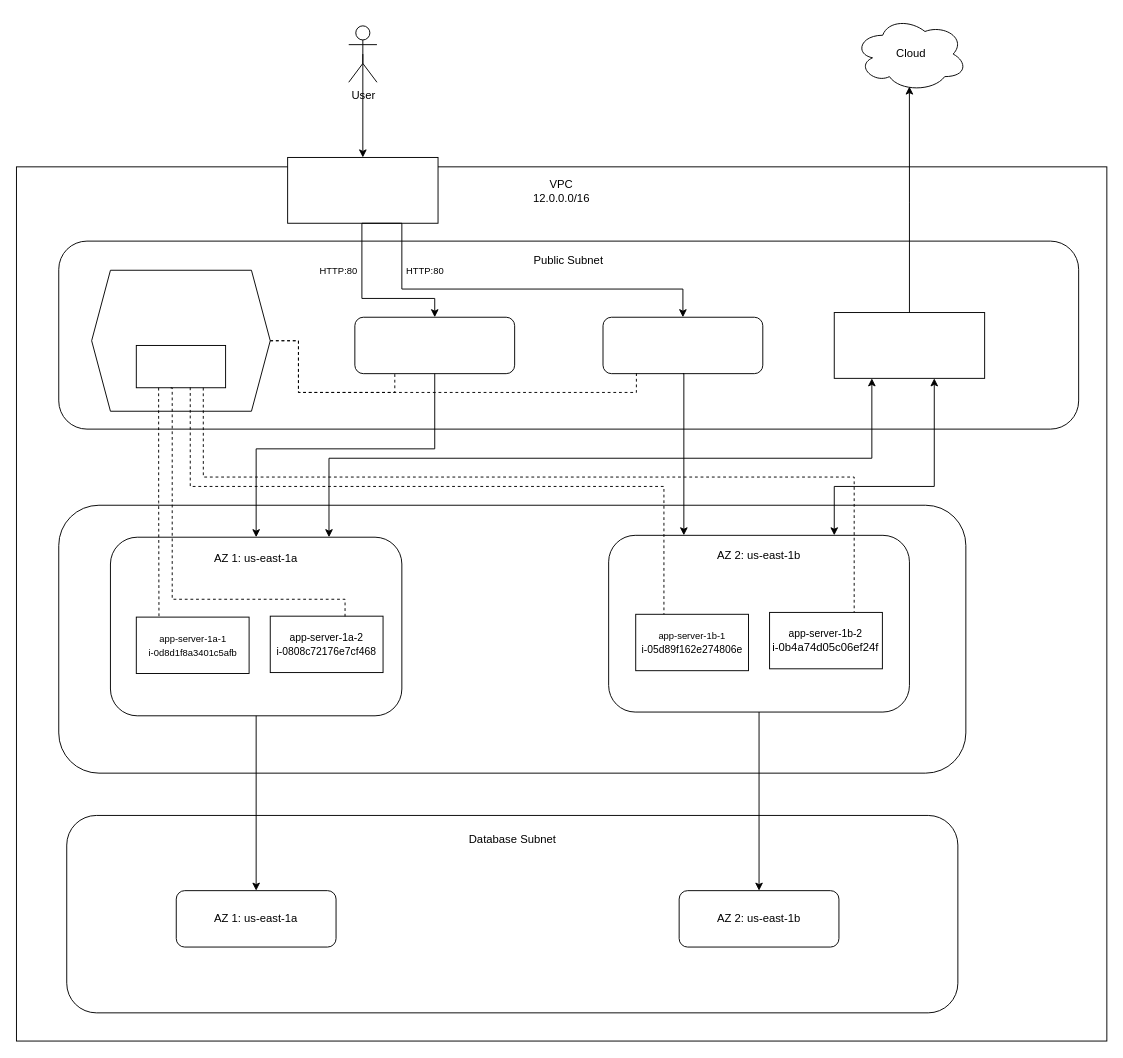
Image size: 1123x1058. Some labels were removed from this diagram. The box of each missing label's shape, as (x1, y1, x2, y2) in pixels:
App Subnet: (58, 504, 966, 773)
AZ 1: us-east-1a subnet-068014d3c6d78e9c8: (354, 316, 515, 374)
AZ 2: us-east-1b subnet-08599f91885eec410: (602, 316, 763, 374)
Internet Gateway: (287, 157, 438, 223)
NAT Gateway nat-12ba70d9bb377c2a0: (833, 312, 985, 378)
web-alb: (91, 269, 270, 411)
web-server-tg: (135, 345, 226, 388)
